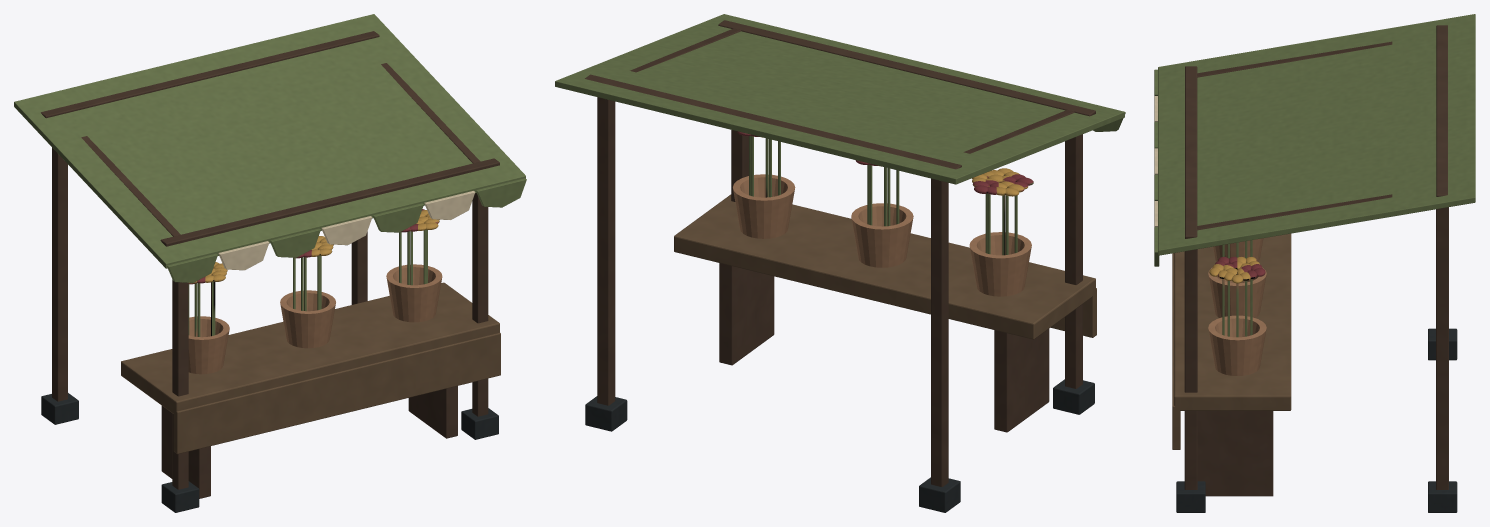
The model's file is Flower_Stall.fbx.
The picture shows the model from 3 angles, left to right: view 1: azimuth 30°, elevation 25°; view 2: azimuth 150°, elevation 25°; view 3: azimuth 270°, elevation 25°; orthographic projection. The views are drawn at different scales.
Parts seen in each view (by area): view 1: Flower_Stall.001; view 2: Flower_Stall.001; view 3: Flower_Stall.001.
Boxes of the visible parts, x1,y1,x2,y2 form: Flower_Stall.001: (14, 14, 526, 512); Flower_Stall.001: (555, 14, 1125, 512); Flower_Stall.001: (1154, 14, 1475, 512).
Size of the model in its own units: 3.56 by 2.94 by 2.63.
